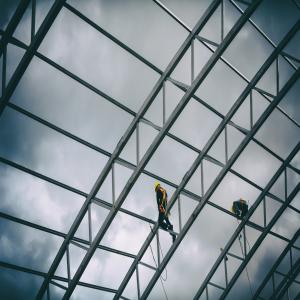yellow: (156, 183, 162, 194), (232, 205, 236, 214)
